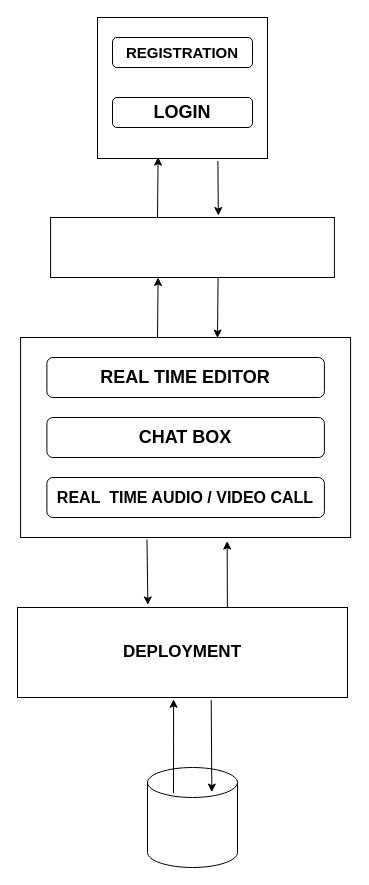
Some shapes in this 369 by 885 pixel diagram are drawn without their labels. Here are the shapes that lost their labels. From the top down, the centre of each, then its label:
the point at 192,247: MEET ID GENERATION
the point at 192,817: DATABASE
